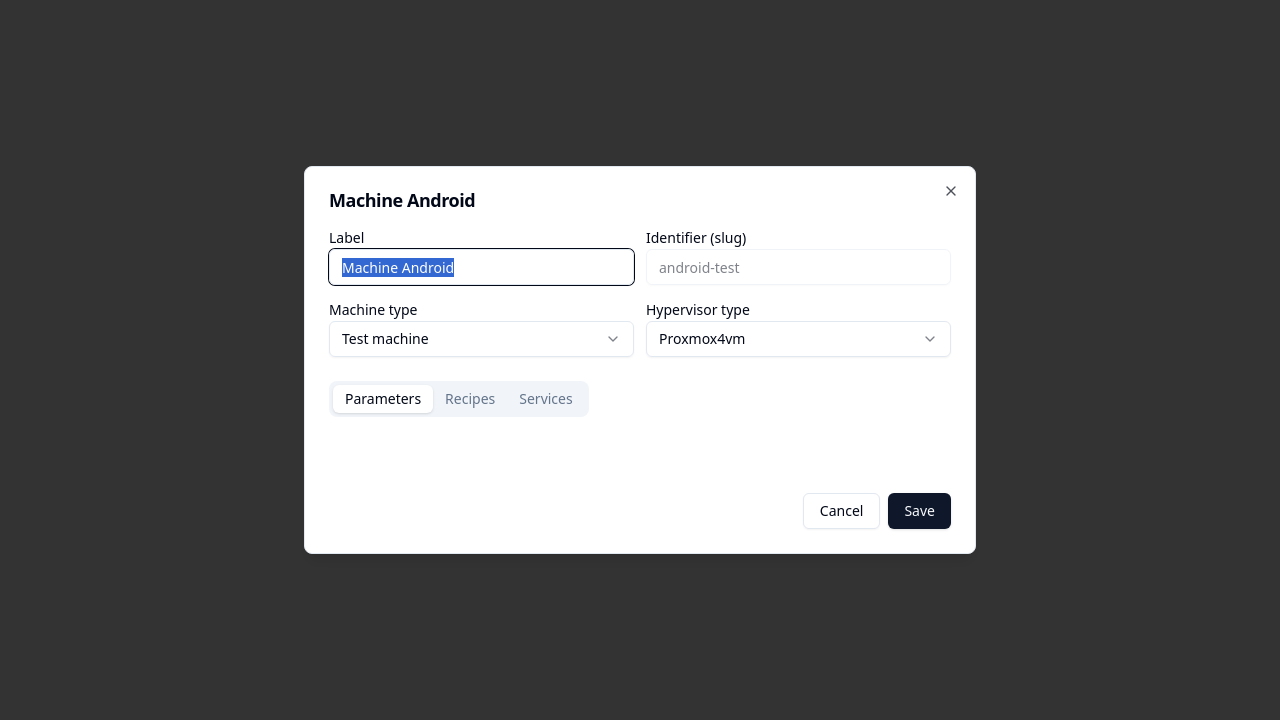
Test: MachineProfileEditor — services › retire un service
The image size is (1280, 720).
Click the tab "Services" at (546, 399), box [507, 385, 585, 413]
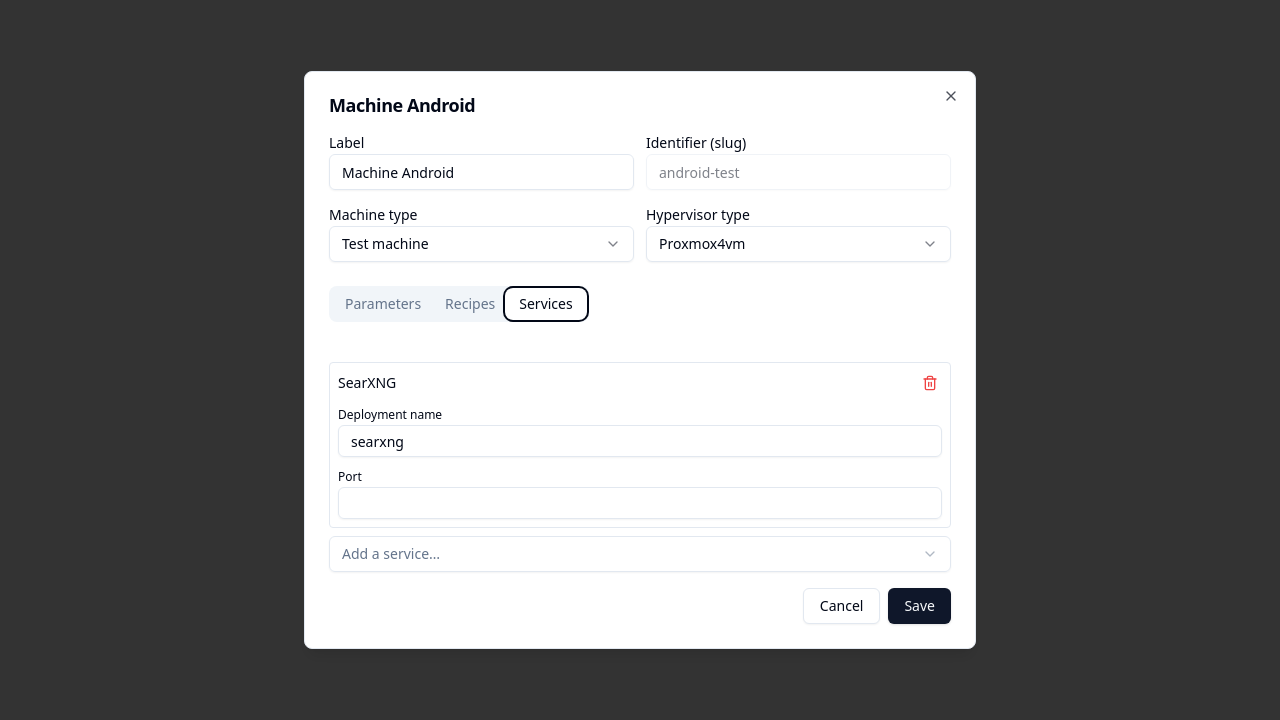
Click the button without text in the row of "SearXNG" at (930, 383), box [918, 371, 942, 395]
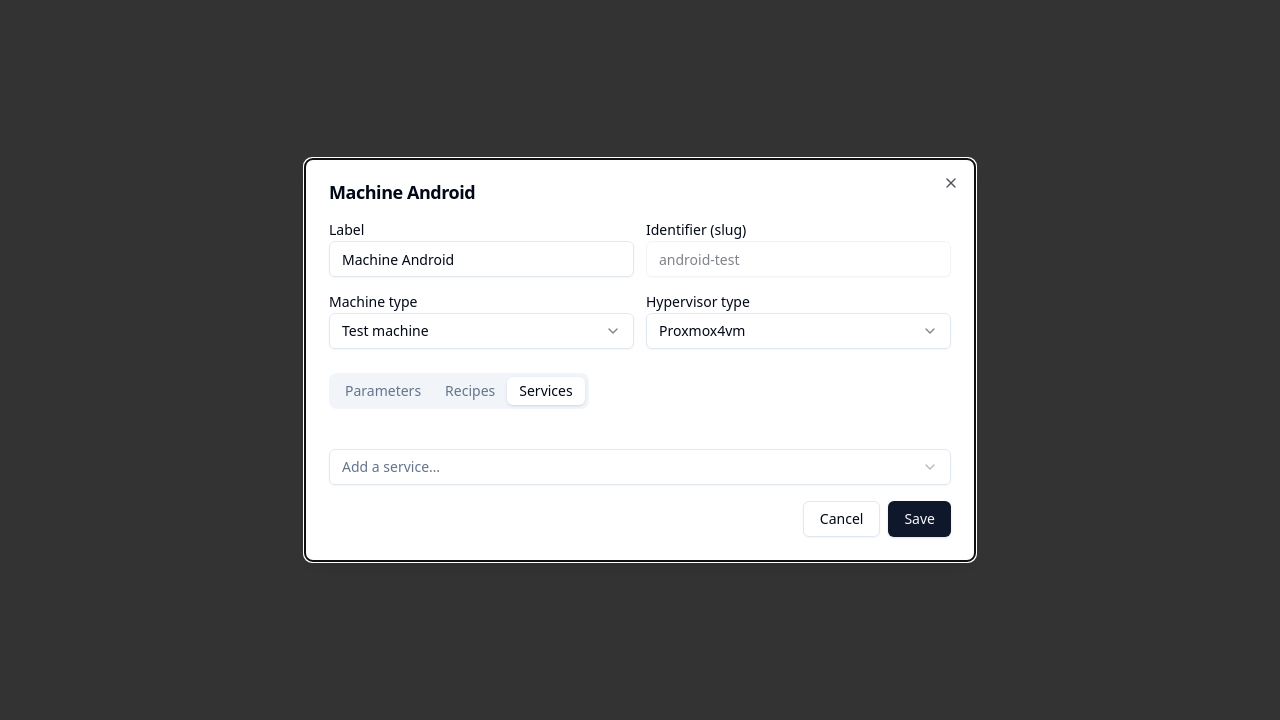
Now the element with test id "service-searxng" is gone
